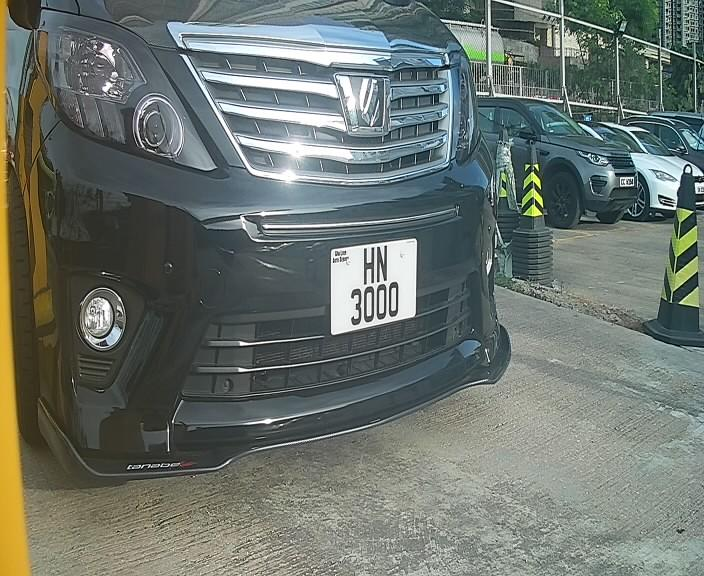License Plate: (318, 227, 425, 340)
